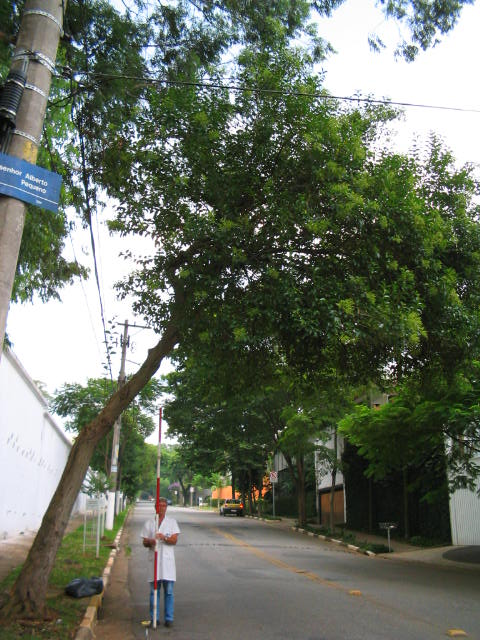crown: (8, 48, 452, 410)
stem: (7, 331, 149, 622)
stick: (144, 406, 169, 627)
tree: (6, 48, 457, 624)
